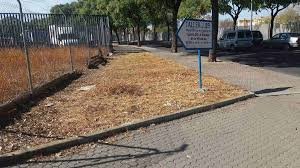Cartel: (175, 19, 213, 53)
Poste: (196, 47, 204, 88)
Valla: (1, 15, 106, 110)
